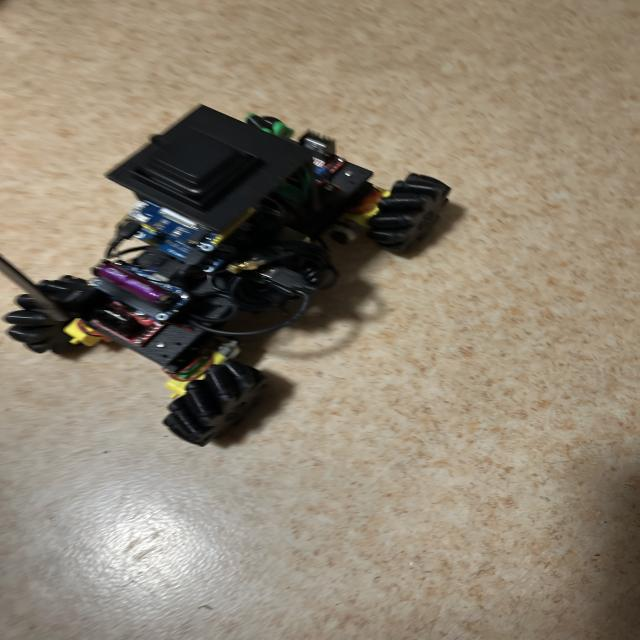robot: (0, 105, 450, 446)
